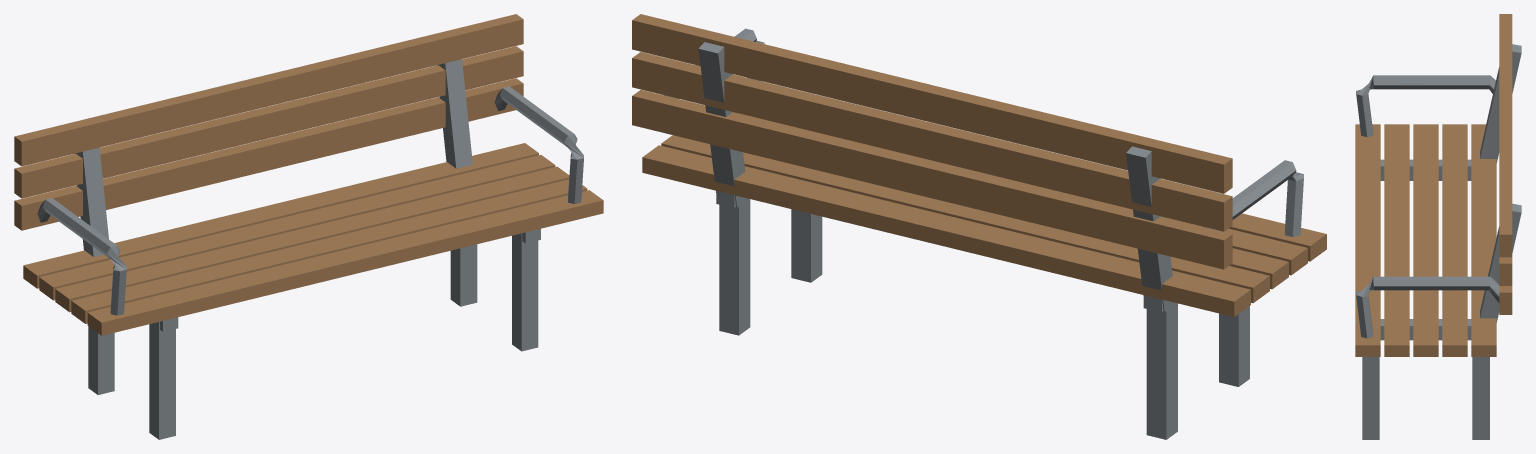
Rendered from PublicBenchBack.glb.
3 renders of one model, left to right at view 1: azimuth 30°, elevation 25°; view 2: azimuth 150°, elevation 25°; view 3: azimuth 270°, elevation 25°, orthographic. The views are drawn at different scales.
Parts seen in each view (by area): view 1: ST_PublicBenchBack_PBK_Indochine_wood.001, ST_PublicBenchBack_PBK_Indochine_metal.001; view 2: ST_PublicBenchBack_PBK_Indochine_wood.001, ST_PublicBenchBack_PBK_Indochine_metal.001; view 3: ST_PublicBenchBack_PBK_Indochine_wood.001, ST_PublicBenchBack_PBK_Indochine_metal.001.
Part boxes in pixels (x1=…): ST_PublicBenchBack_PBK_Indochine_wood.001: x1=14, y1=14, x2=603, y2=335; ST_PublicBenchBack_PBK_Indochine_metal.001: x1=37, y1=59, x2=583, y2=439; ST_PublicBenchBack_PBK_Indochine_wood.001: x1=632, y1=14, x2=1326, y2=316; ST_PublicBenchBack_PBK_Indochine_metal.001: x1=664, y1=28, x2=1303, y2=439; ST_PublicBenchBack_PBK_Indochine_wood.001: x1=1355, y1=14, x2=1512, y2=356; ST_PublicBenchBack_PBK_Indochine_metal.001: x1=1356, y1=44, x2=1521, y2=439.
Bounding box in the file's own units: 1.8 × 0.8825 × 0.5729.
